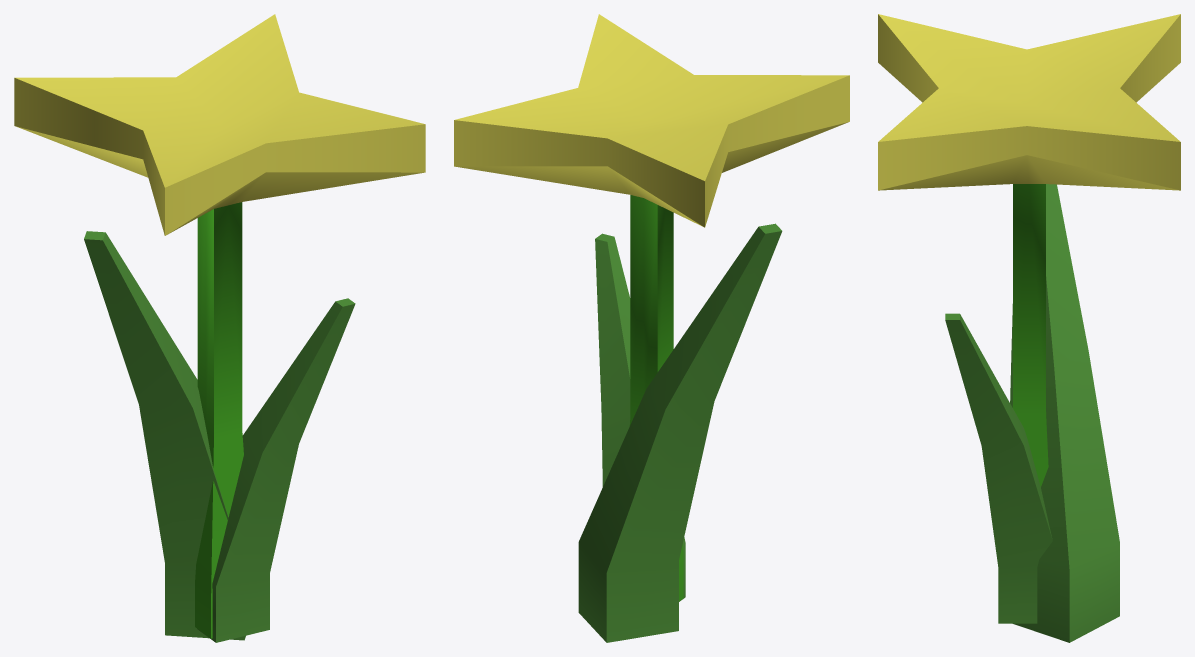
Rendered from Flower.fbx.
3 views of the same model, side by side, from view 1: azimuth 30°, elevation 25°; view 2: azimuth 150°, elevation 25°; view 3: azimuth 270°, elevation 25° (orthographic). The views are drawn at different scales.
Parts seen in each view (by area): view 1: pCube4; view 2: pCube4; view 3: pCube4.
Part boxes in pixels (x1,y1,x2,y2): pCube4: [14, 14, 425, 642]; pCube4: [454, 14, 849, 642]; pCube4: [878, 14, 1180, 642].
Bounding box in the file's own units: 1.25 × 2.4 × 1.23.
